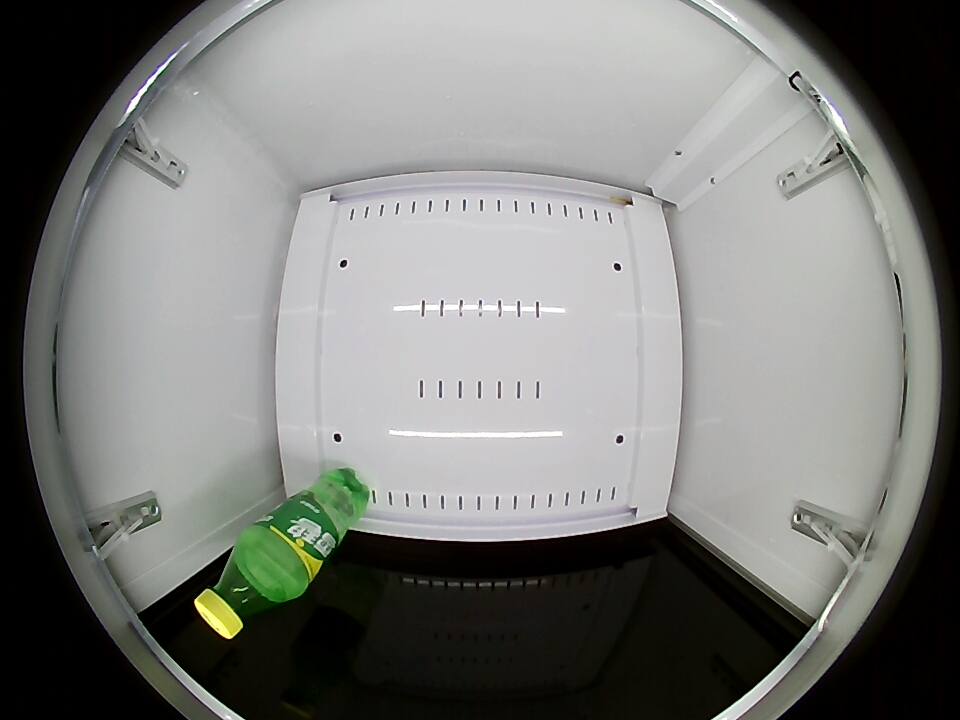xuebi-b: (194, 540, 293, 640)
